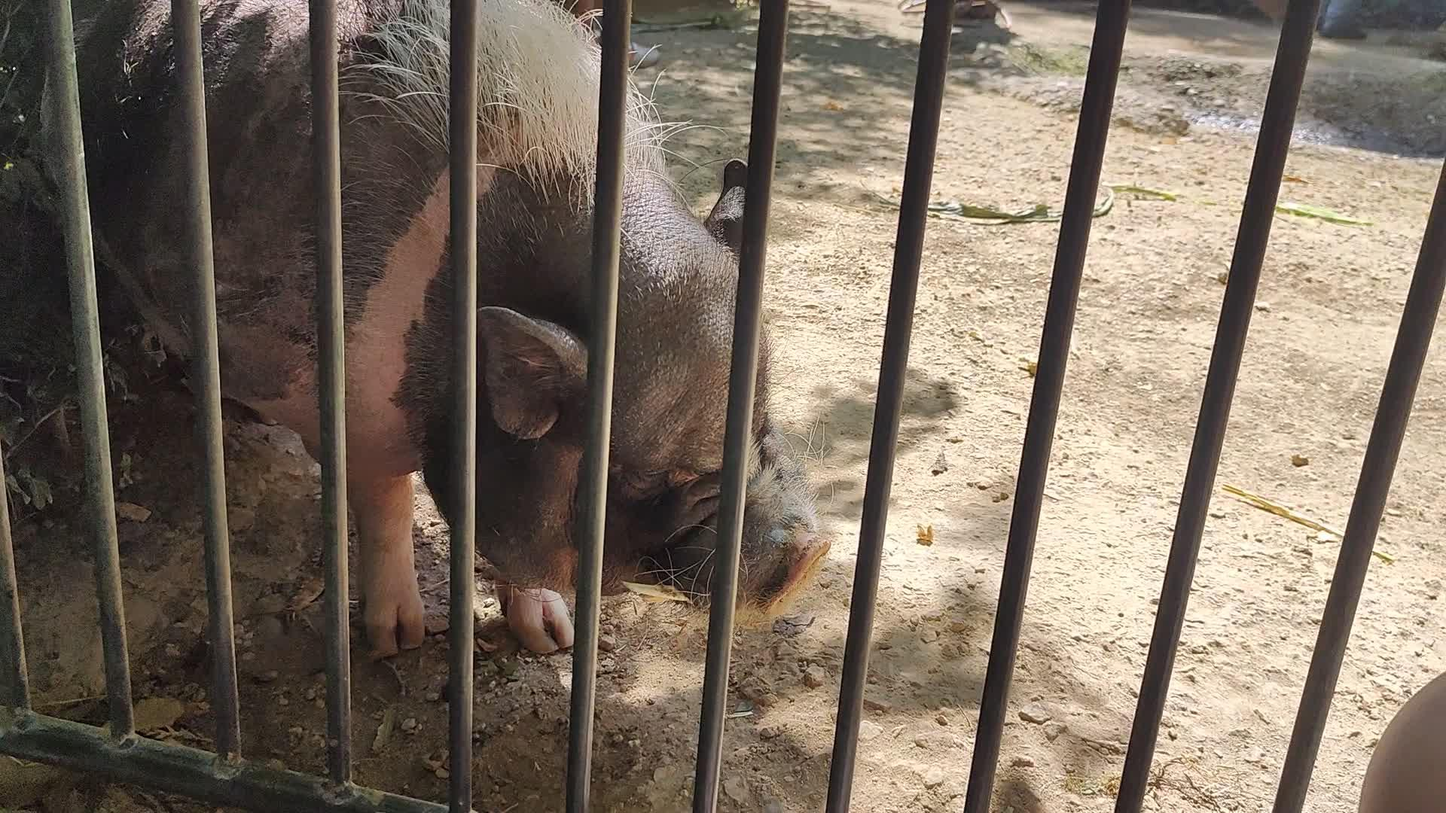bear: (0, 0, 831, 659)
